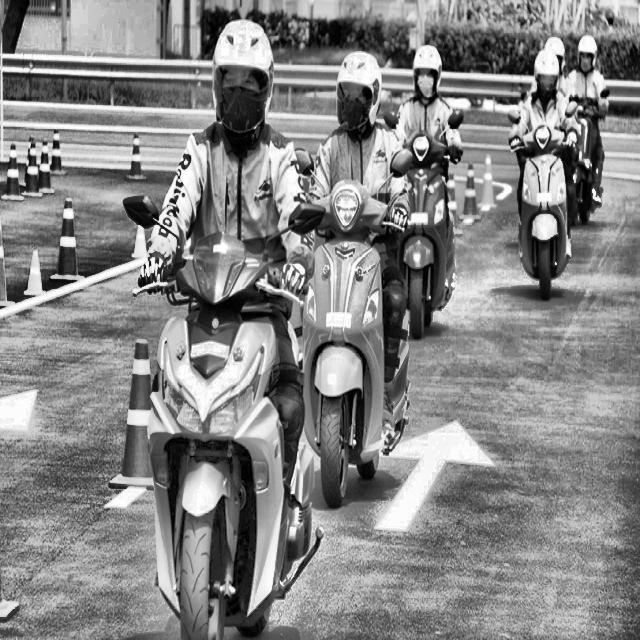Helmet: (206, 10, 279, 141), (329, 43, 391, 150), (410, 37, 444, 109)
